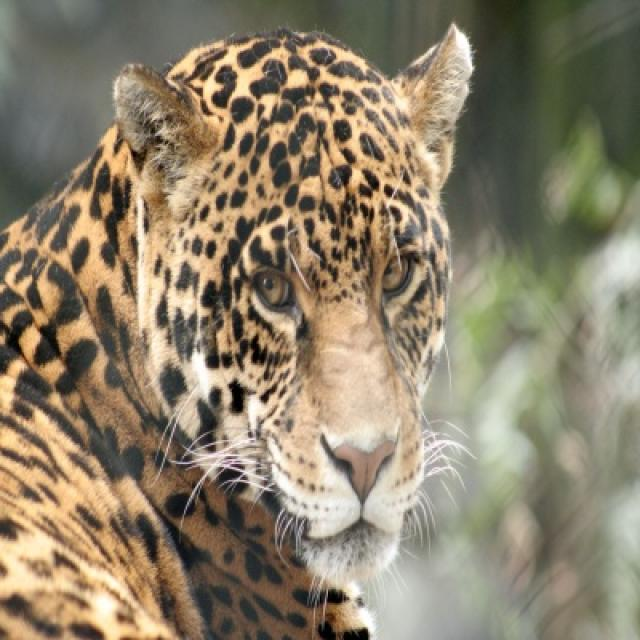Jaguar: (0, 22, 475, 638)
